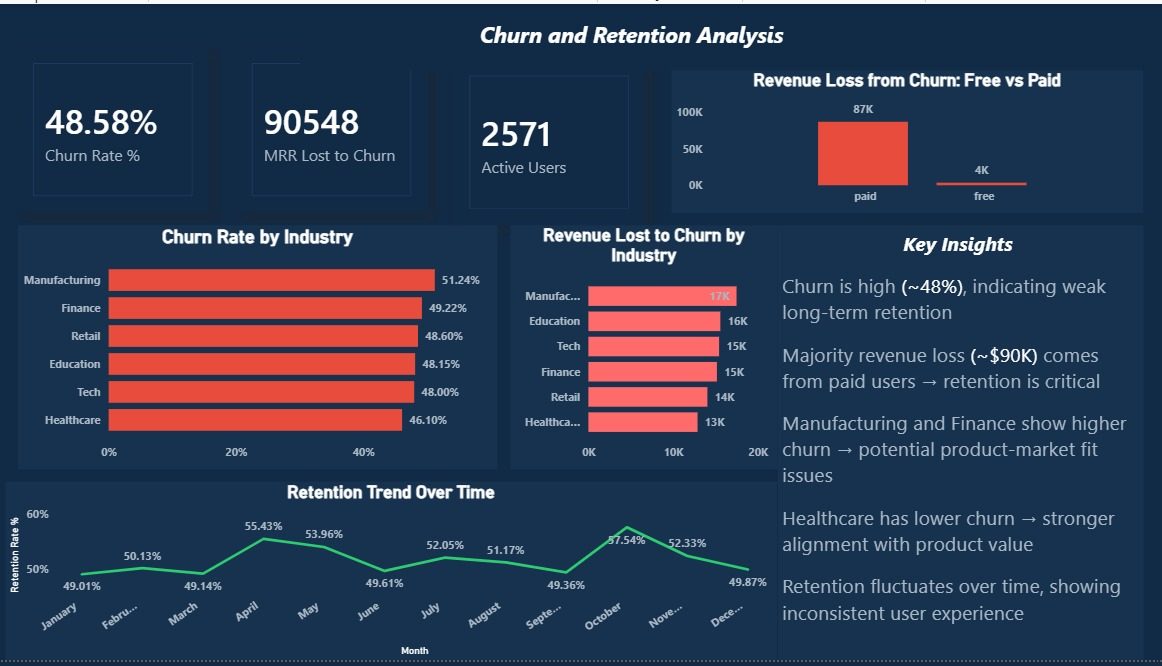

Layout of this report page (visuals, bound fields, positions):
{"tool":"powerbi","page":{"name":"Page 4","canvas":[1280,720],"ordinal":3},"visuals":[{"type":"cardVisual","fields":{"Data":["subscriptions_2026.Churn Rate %"]},"box":[20.1,47.7,209.8,180.9],"z":0},{"type":"cardVisual","fields":{"Data":["subscriptions_2026.MRR Lost to Churn"]},"box":[260.1,47.7,209.8,180.9],"z":1000},{"type":"cardVisual","fields":{"Data":["subscriptions_2026.Active Users"]},"box":[499.5,61.7,209.1,180.5],"z":2000},{"type":"clusteredBarChart","title":"Churn Rate by Industry","fields":{"Category":["users_2026.industry"],"Y":["subscriptions_2026.Churn Rate by Segment %"]},"box":[21.1,242.2,526.6,267.8],"z":3000},{"type":"lineChart","title":"Retention Trend Over Time","fields":{"Category":["users_2026.signup_date_clean.Variation.Date Hierarchy.Month"],"Y":["subscriptions_2026.Retention Rate %"]},"box":[7.5,523.6,847,197.1],"z":4000},{"type":"clusteredBarChart","title":"Revenue Lost to Churn by Industry","fields":{"Category":["users_2026.industry"],"Y":["subscriptions_2026.MRR Lost to Churn"]},"box":[561.2,242.2,293.4,267.8],"z":5000},{"type":"textbox","box":[331,12,734.2,60.2],"z":6000},{"type":"clusteredColumnChart","title":"Revenue Loss from Churn: Free vs Paid","fields":{"Category":["users_2026.plan_type"],"Y":["subscriptions_2026.MRR Lost to Churn"]},"box":[738.7,72.2,517.5,156.5],"z":7000},{"type":"textbox","box":[854.5,242.2,401.7,478.4],"z":8000}]}

Visuals, with their boxes in screenshot pixels (x1, y1, x2, y2), scaled from the page's 1280x720 canvas onto the 1162x666 screenshot:
cardVisual - subscriptions_2026.Churn Rate %: <bbox>18, 44, 209, 211</bbox>
cardVisual - subscriptions_2026.MRR Lost to Churn: <bbox>236, 44, 427, 211</bbox>
cardVisual - subscriptions_2026.Active Users: <bbox>453, 57, 643, 224</bbox>
"Churn Rate by Industry" clusteredBarChart: <bbox>19, 224, 497, 472</bbox>
"Retention Trend Over Time" lineChart: <bbox>7, 484, 776, 665</bbox>
"Revenue Lost to Churn by Industry" clusteredBarChart: <bbox>509, 224, 776, 472</bbox>
textbox: <bbox>300, 11, 967, 67</bbox>
"Revenue Loss from Churn: Free vs Paid" clusteredColumnChart: <bbox>671, 67, 1140, 212</bbox>
textbox: <bbox>776, 224, 1140, 665</bbox>
